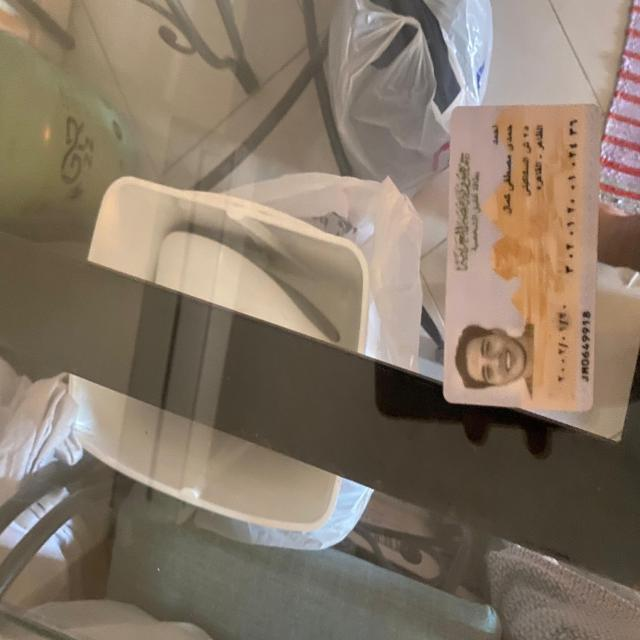ID-cards: (436, 98, 613, 430)
